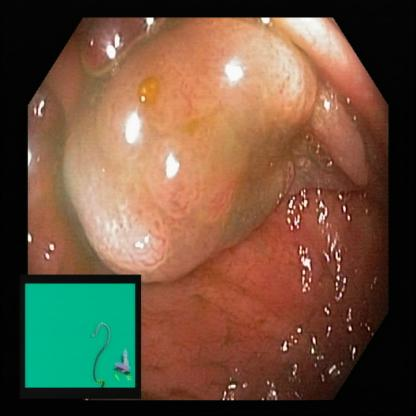Labels: (23, 274, 141, 398)
Polyps: (81, 68, 331, 258)
